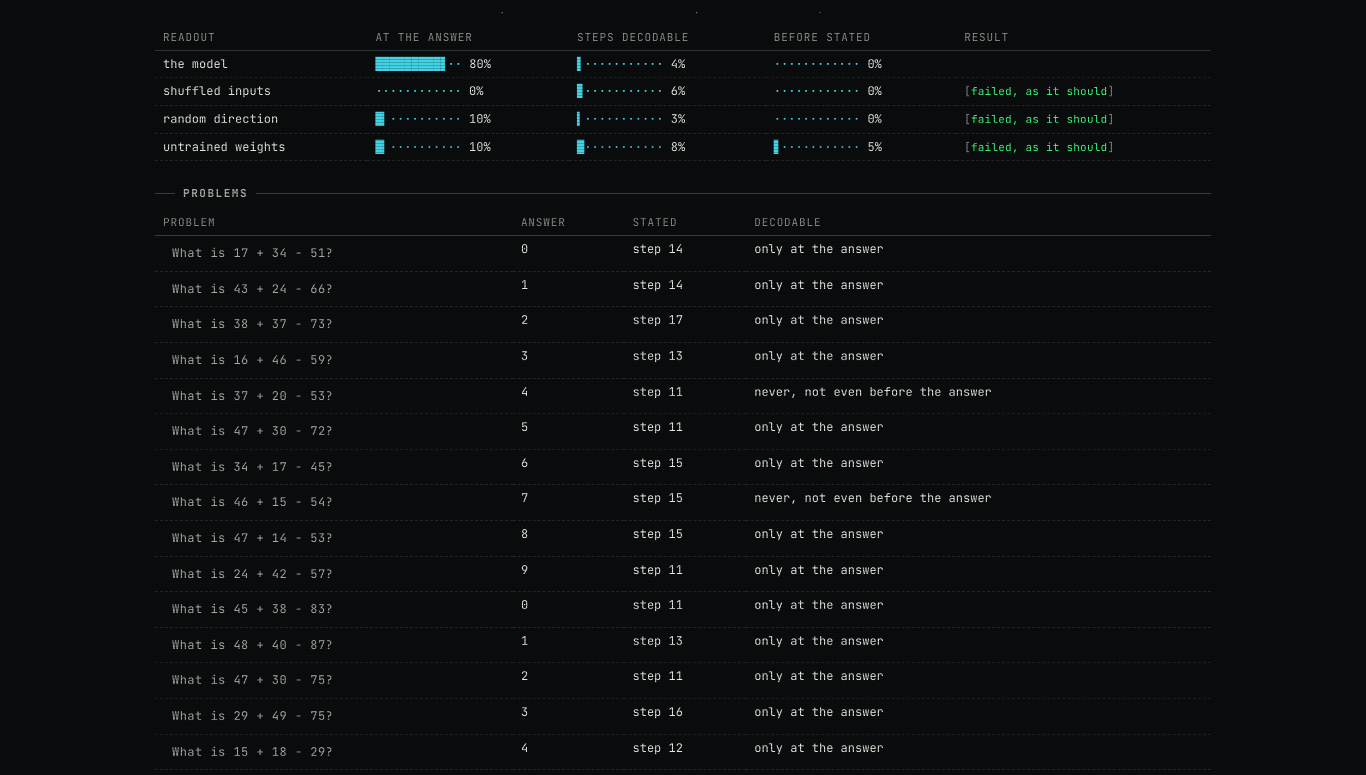
Test: the answer-commitment finding › opening a problem shows each step with the stated and decodable points marked
(page scrolled)
Step 1. Click the button "What is 37 + 20 - 53?" → (253, 396), box [163,383,342,409]
(page scrolled)
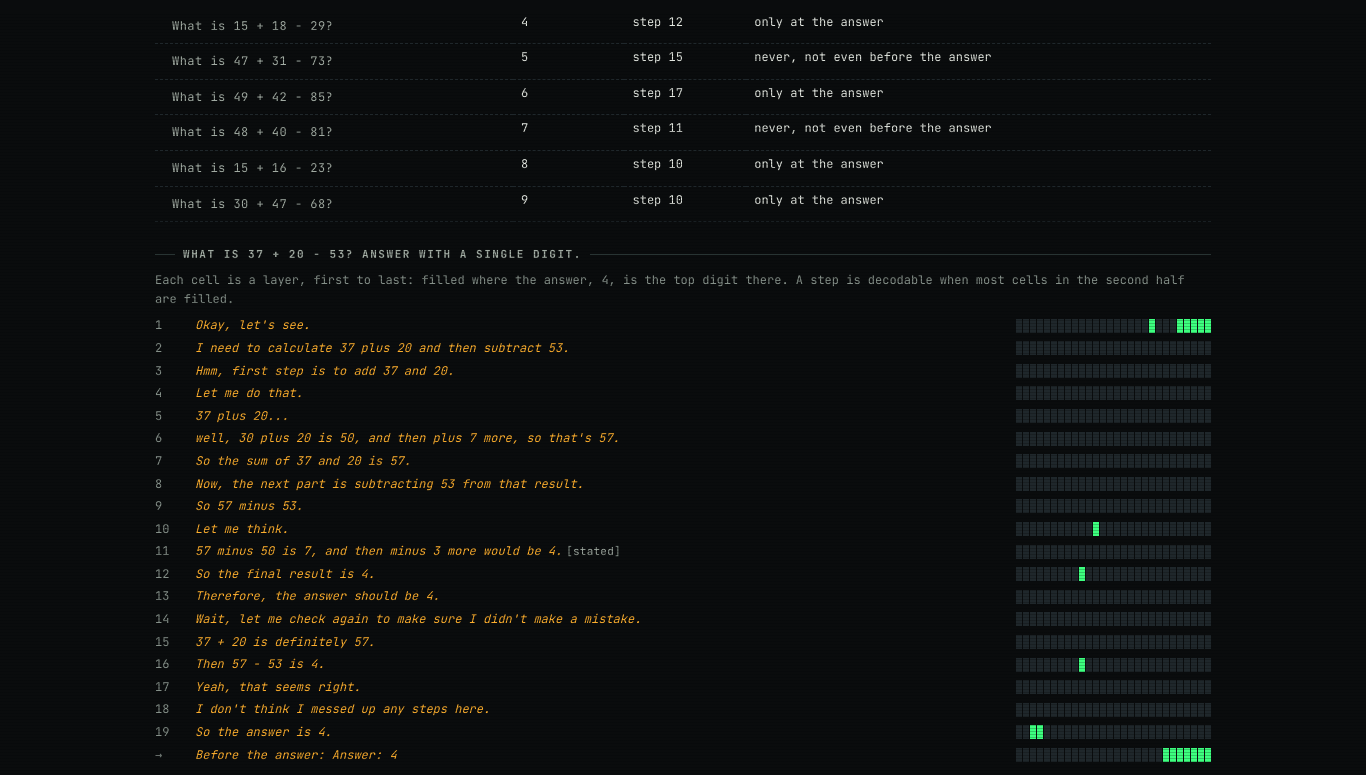
Expected: the text "stated" is shown, [566,543,621,560]
Now the number of list items is 20
